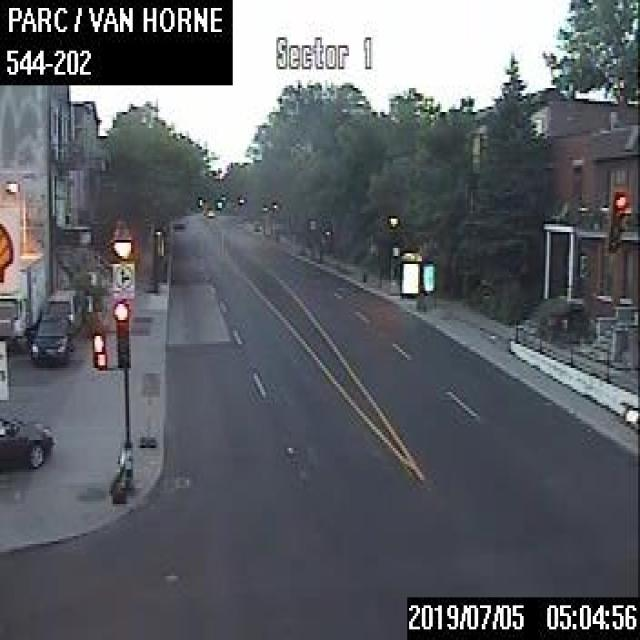vehicle: (0, 249, 44, 343), (0, 413, 53, 472), (29, 311, 70, 364), (40, 288, 82, 335)
